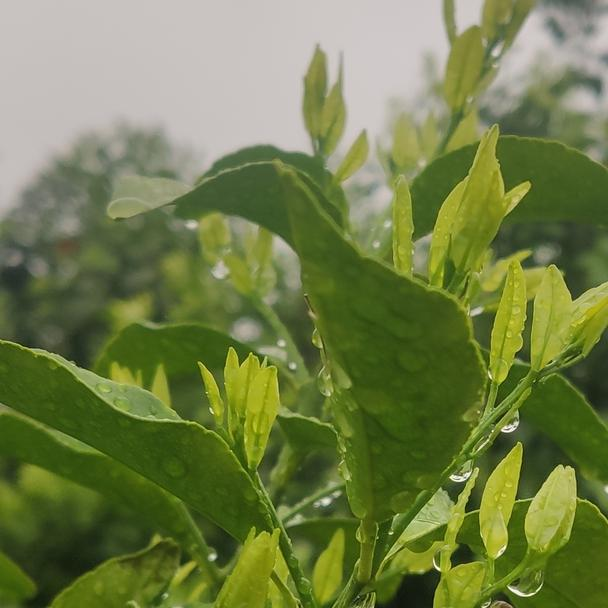shoot: (439, 463, 578, 603), (386, 146, 525, 283), (481, 275, 608, 422), (196, 343, 281, 466), (292, 48, 365, 152)
